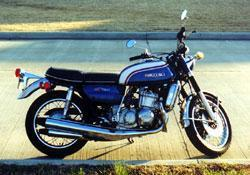Motorcycle: (9, 10, 236, 163)
